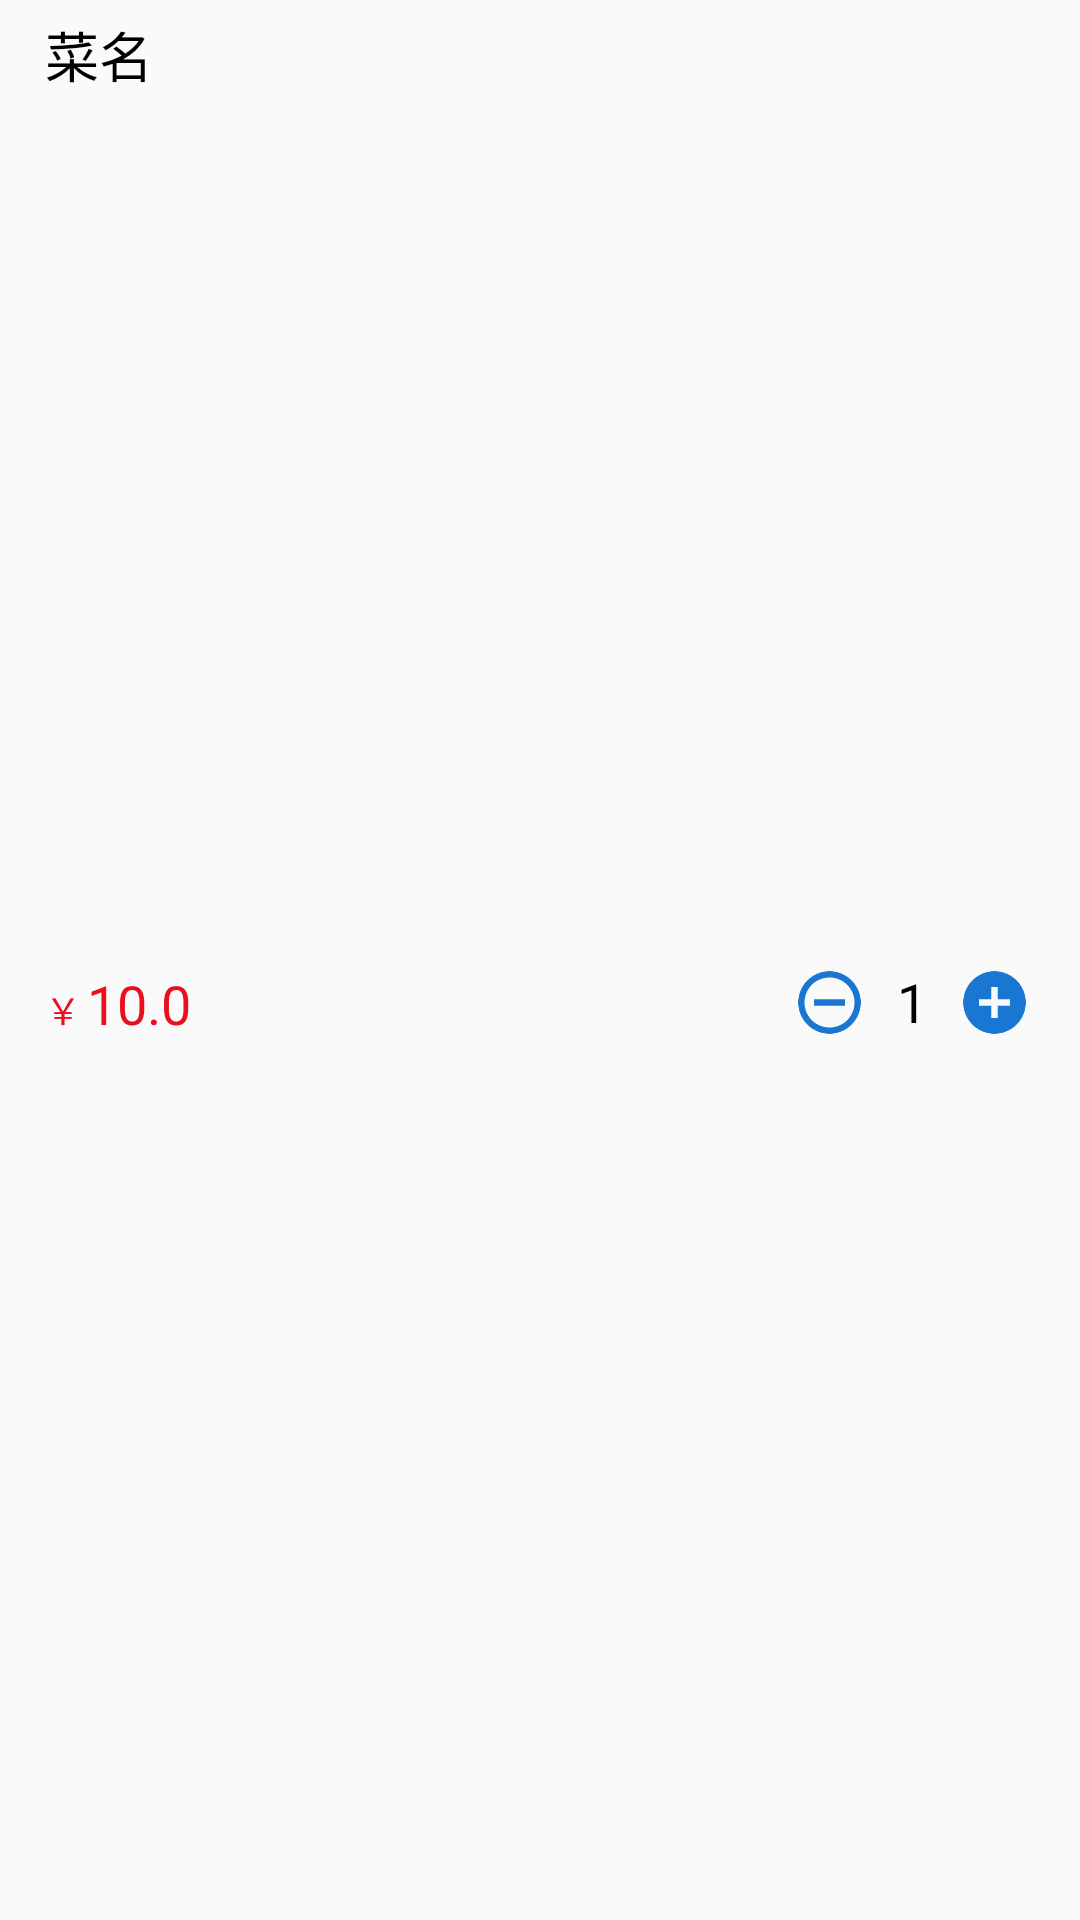

Named icons in this screenshot (1080*1920) and their centers, (x,y):
add circle: (994,1002)
remove circle: (829,1002)
